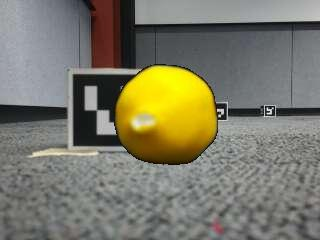lemon: (114, 64, 215, 163)
